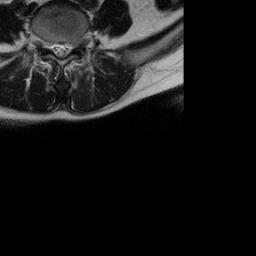CCS_stenosis: (58, 37, 64, 62)
LFS_stenosis: (72, 35, 80, 53)
LLS_normal: (65, 38, 72, 57)
RFS_normal: (43, 35, 51, 54)
RLS_normal: (51, 37, 58, 60)
